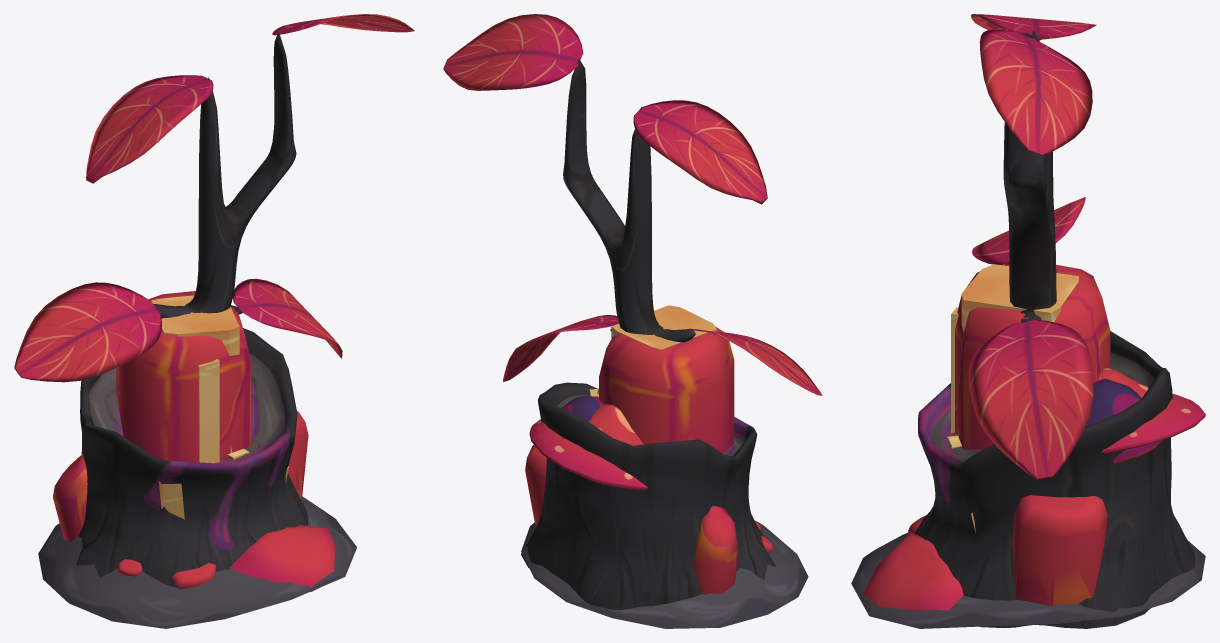
Rendered from AssetsFase2.fbx.
3 views of the same model, side by side, from view 1: azimuth 30°, elevation 25°; view 2: azimuth 150°, elevation 25°; view 3: azimuth 270°, elevation 25° (orthographic). The views are drawn at different scales.
Visible parts, largest first — view 1: RedCrystal.001, PlantaFlurescente.001, ChoppedTree.001, BlueCrystal.001; view 2: ChoppedTree.001, PlantaFlurescente.001, RedCrystal.001, RedMushroom.001, BlueCrystal.001, YellowMushroom.001; view 3: PlantaFlurescente.001, ChoppedTree.001, RedCrystal.001, BlueCrystal.001, RedMushroom.001, YellowMushroom.001.
Part boxes in pixels (x1,y1,x2,y2): RedCrystal.001: (38, 291, 356, 628); PlantaFlurescente.001: (14, 14, 414, 382); ChoppedTree.001: (76, 328, 308, 587); BlueCrystal.001: (150, 295, 249, 519); ChoppedTree.001: (521, 382, 775, 610); PlantaFlurescente.001: (443, 14, 822, 395); RedCrystal.001: (521, 326, 808, 628); RedMushroom.001: (529, 404, 647, 489); BlueCrystal.001: (589, 305, 716, 397); YellowMushroom.001: (562, 396, 603, 421); PlantaFlurescente.001: (968, 14, 1096, 479); ChoppedTree.001: (914, 331, 1195, 628); RedCrystal.001: (851, 264, 1205, 628); BlueCrystal.001: (947, 264, 1078, 448); RedMushroom.001: (1097, 368, 1205, 453); YellowMushroom.001: (1085, 378, 1162, 464).
Bounding box in the file's own units: 152 × 197 × 101.
